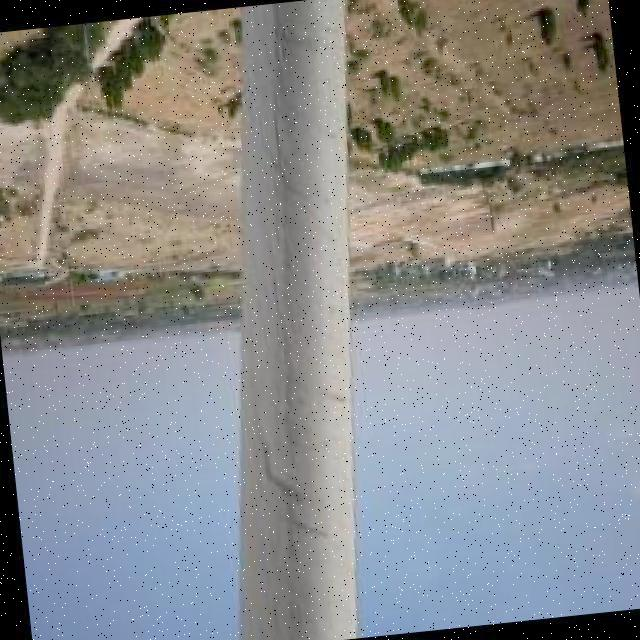Dirt: (241, 2, 358, 640)
